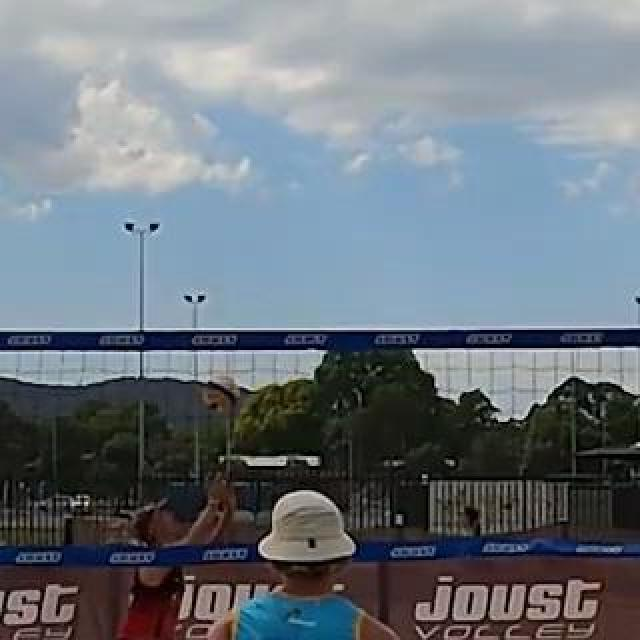volleyball: (203, 374, 239, 414)
